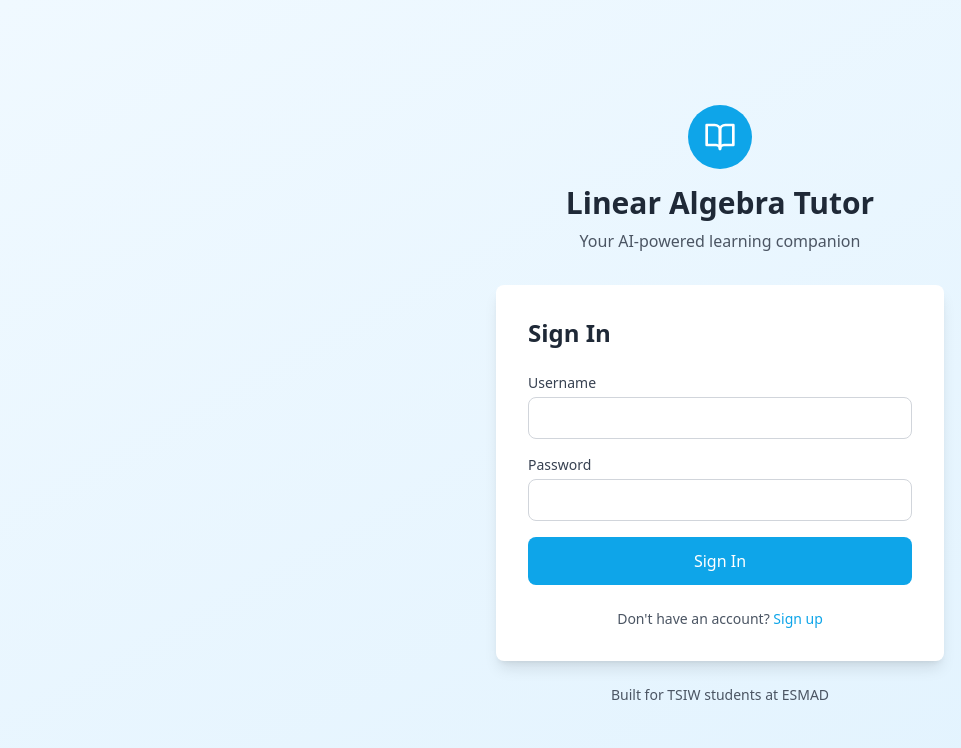
Test case: Login › shows a generic error when the API rejects without a message
Step 1. Type "alice" into the field labelled "Username" → (720, 418), box x1=528 y1=397 x2=912 y2=439
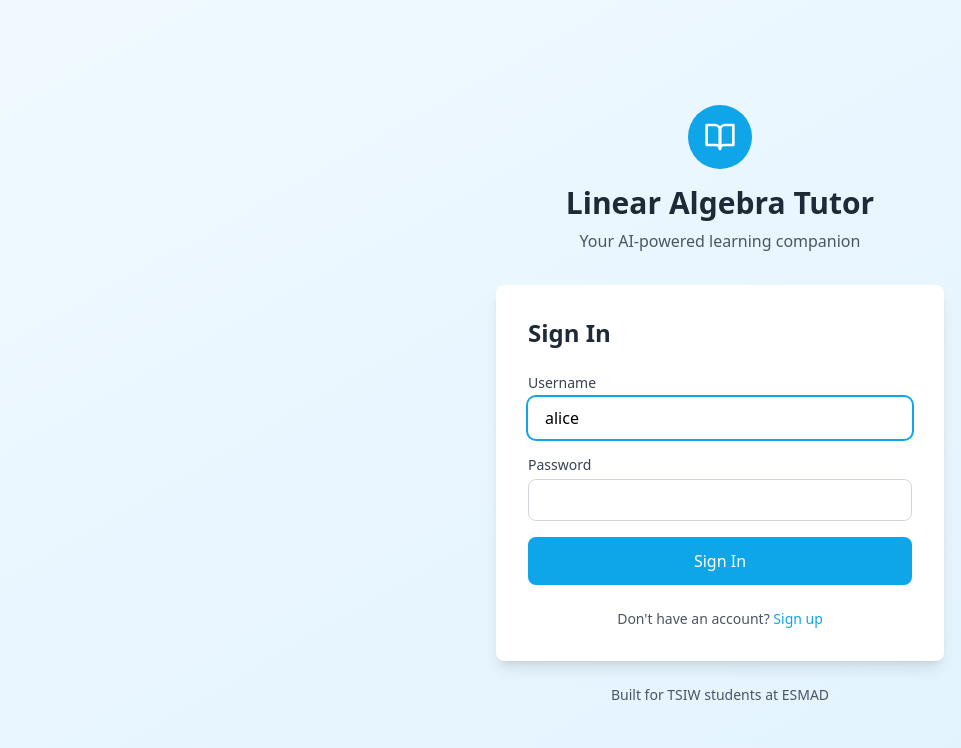
Step 2. Type "pw12345678" into the password field labelled "Password" → (720, 500), box x1=528 y1=479 x2=912 y2=521
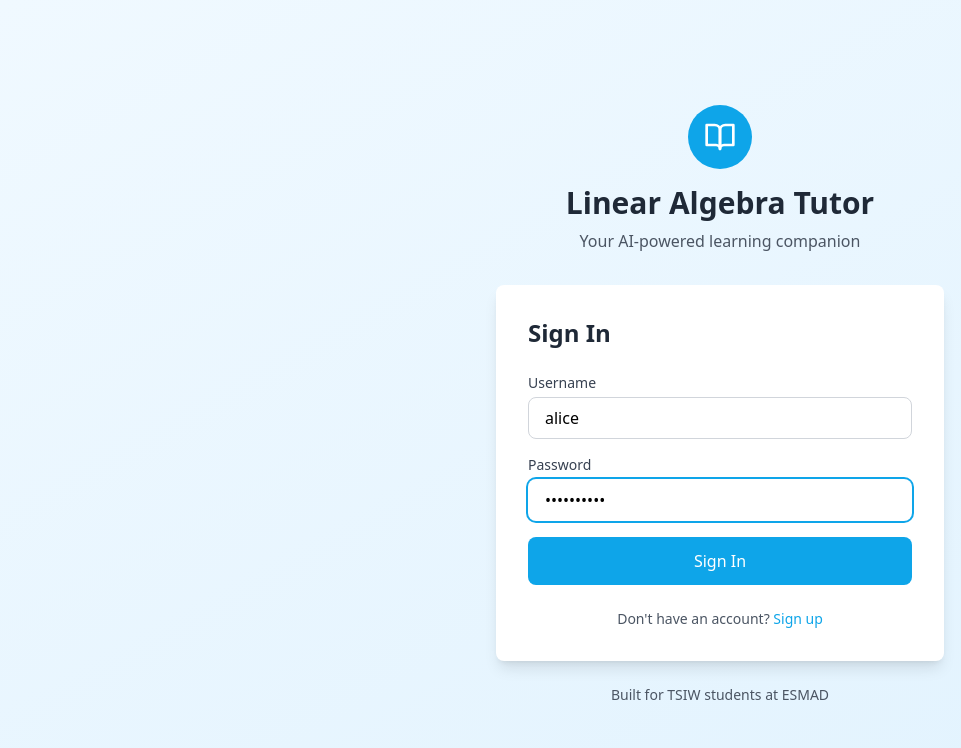
Step 3. Click the button "Sign In" → (720, 561), box x1=528 y1=537 x2=912 y2=585
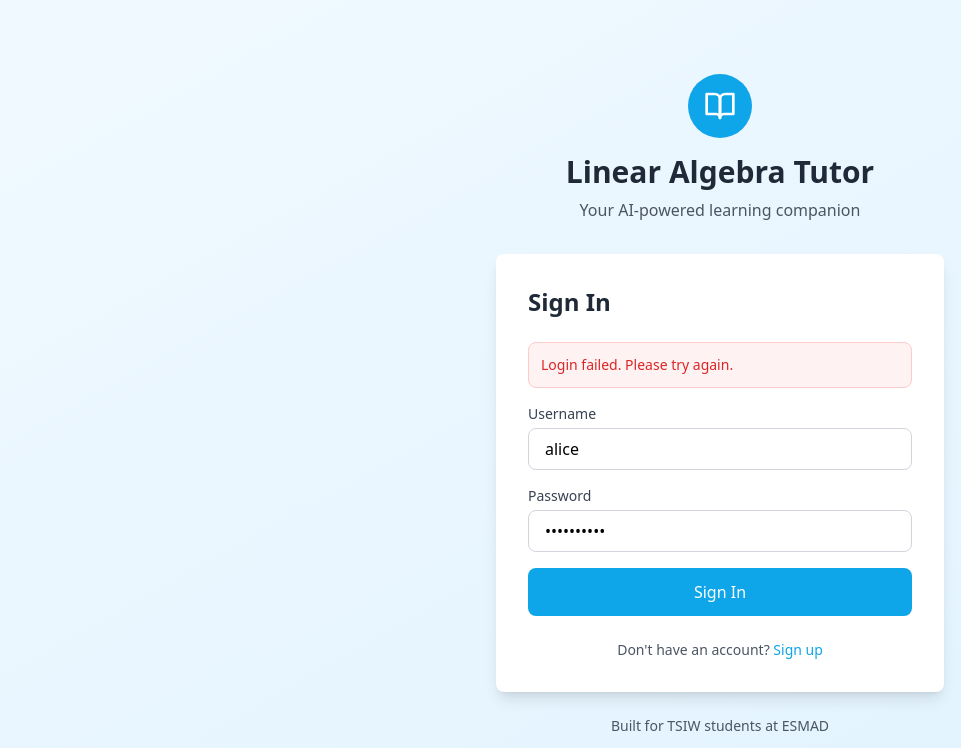
Now the text "Login failed. Please try again." is shown, box x1=528 y1=342 x2=912 y2=388
